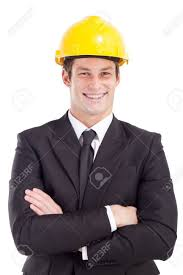Person_wearing_helmet: (54, 11, 130, 76)
